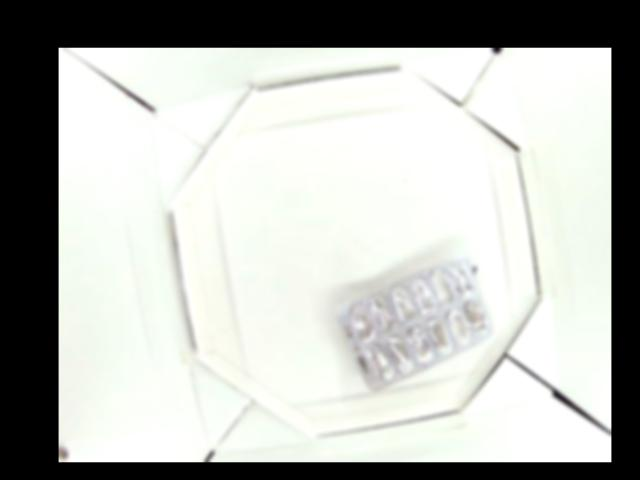Medicine: (333, 258, 493, 393)
